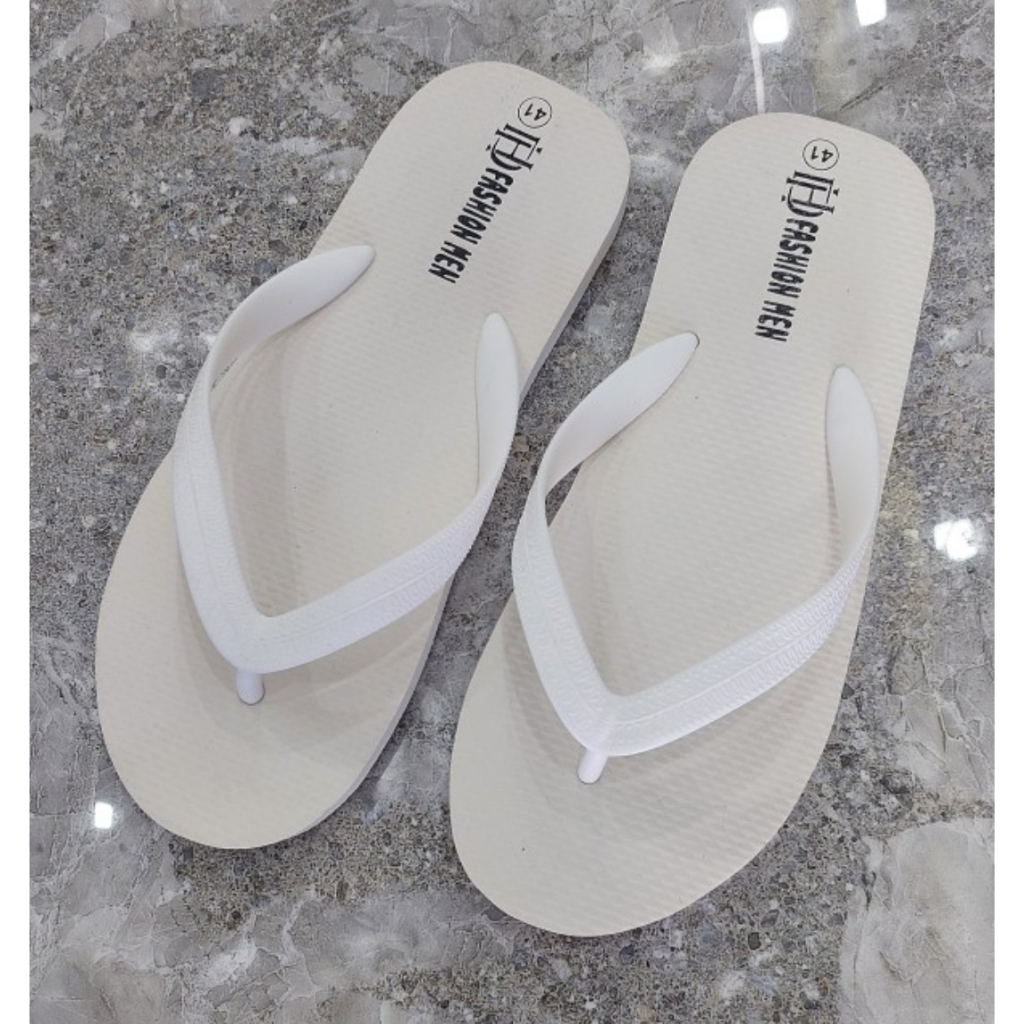flip_flops: (92, 59, 632, 848), (444, 112, 941, 943)
